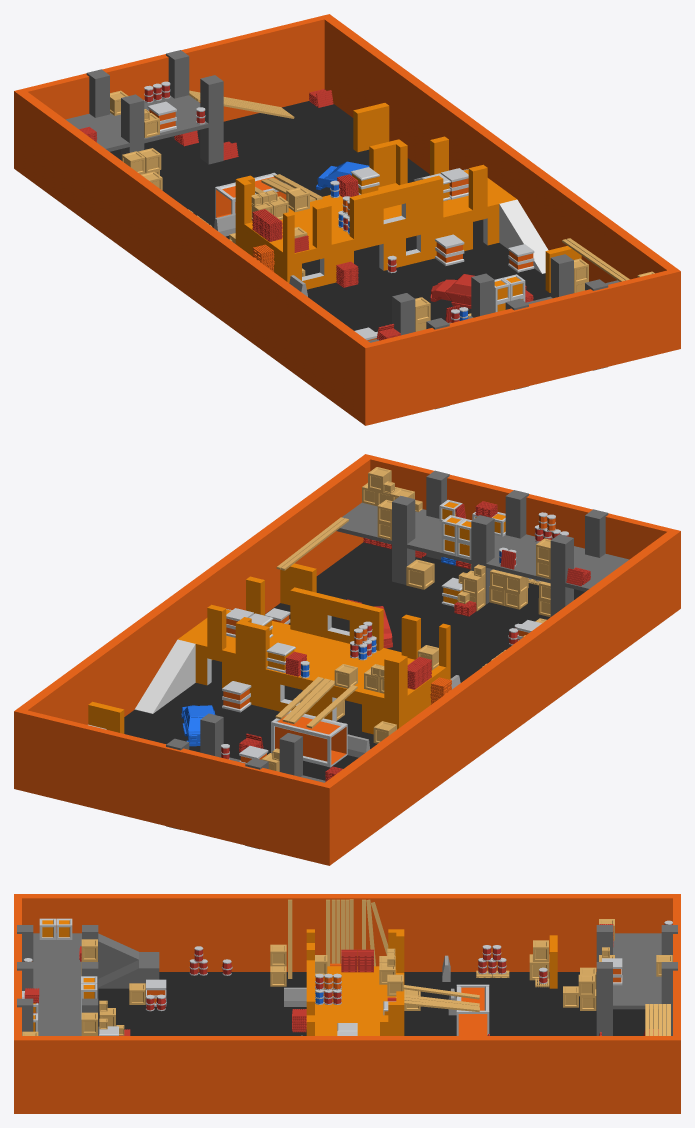
The model's file is map.glb.
3 views of the same model, one above another, from view 1: azimuth 30°, elevation 25°; view 2: azimuth 150°, elevation 25°; view 3: azimuth 270°, elevation 25° (orthographic). The views are drawn at different scales.
Visible parts, largest first — view 1: floors, Plane, room, Cube.016, Cube.004, Cube.001, obj.004, Cube.006, Cube.005, BigBox.001, BigBox.004, Cube.035; view 2: floors, room, Plane, Cube.004, Cube.005, Cube.016, Cube.002, obj.002, obj.004, Cube.035, BigBox.002, Box.034; view 3: floors, Plane, Cube.004, Cube.016, room, up2, Cube.005, Cube.030, obj.028, Cube.023, Cube.036, Cube.011 (+16 smaller).
Boxes of the visible parts, <box> form: floors: <box>14,14,680,425</box>; Plane: <box>110,101,550,331</box>; room: <box>235,136,516,289</box>; Cube.016: <box>65,50,223,164</box>; Cube.004: <box>368,254,619,409</box>; Cube.001: <box>499,199,548,273</box>; obj.004: <box>353,103,389,152</box>; Cube.006: <box>430,274,474,308</box>; Cube.005: <box>215,172,289,218</box>; BigBox.001: <box>435,234,464,265</box>; BigBox.004: <box>508,244,534,272</box>; Cube.035: <box>316,161,369,190</box>; floors: <box>14,454,680,865</box>; room: <box>178,576,450,734</box>; Plane: <box>124,542,584,780</box>; Cube.004: <box>336,470,629,616</box>; Cube.005: <box>271,710,347,767</box>; Cube.016: <box>166,713,325,849</box>; Cube.002: <box>134,639,195,713</box>; obj.002: <box>280,563,316,605</box>; obj.004: <box>88,701,124,733</box>; Cube.035: <box>181,705,215,746</box>; BigBox.002: <box>222,681,251,712</box>; Box.034: <box>406,559,434,589</box>; floors: <box>14,894,680,1113</box>; Plane: <box>98,972,658,1035</box>; Cube.004: <box>17,925,98,1035</box>; Cube.016: <box>596,925,677,1035</box>; room: <box>306,929,404,1035</box>; up2: <box>98,933,159,988</box>; Cube.005: <box>456,984,489,1035</box>; Cube.030: <box>331,899,349,963</box>; obj.028: <box>549,935,557,988</box>; Cube.023: <box>362,899,375,966</box>; Cube.036: <box>284,987,306,1006</box>; Cube.011: <box>645,1004,657,1035</box>.
Size of the model in its own units: 8.5 by 2.1 by 16.4.
